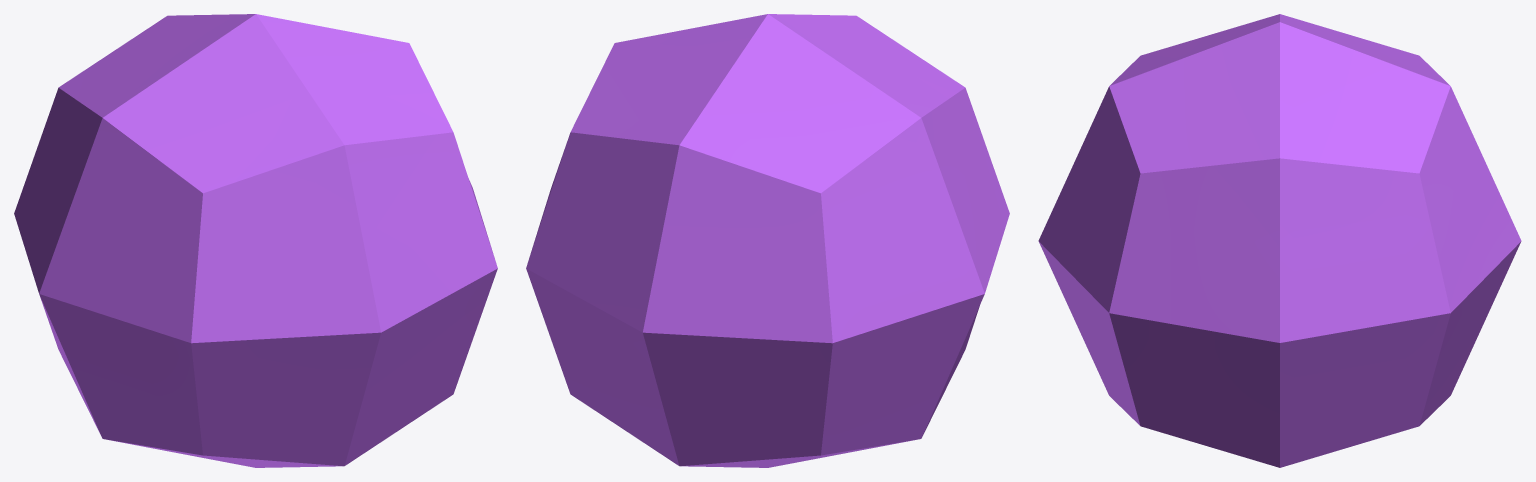
File: SM_ProjectileRevolver.fbx
3 renders of one model, left to right at view 1: azimuth 30°, elevation 25°; view 2: azimuth 150°, elevation 25°; view 3: azimuth 270°, elevation 25°, orthographic. The views are drawn at different scales.
Visible parts, largest first — view 1: GlowingOrb; view 2: GlowingOrb; view 3: GlowingOrb.
Boxes of the visible parts, bbox=[...] form: GlowingOrb: bbox=[14, 14, 497, 467]; GlowingOrb: bbox=[526, 14, 1009, 467]; GlowingOrb: bbox=[1038, 14, 1521, 467].
Size of the model in its own units: 30 by 30 by 30.
